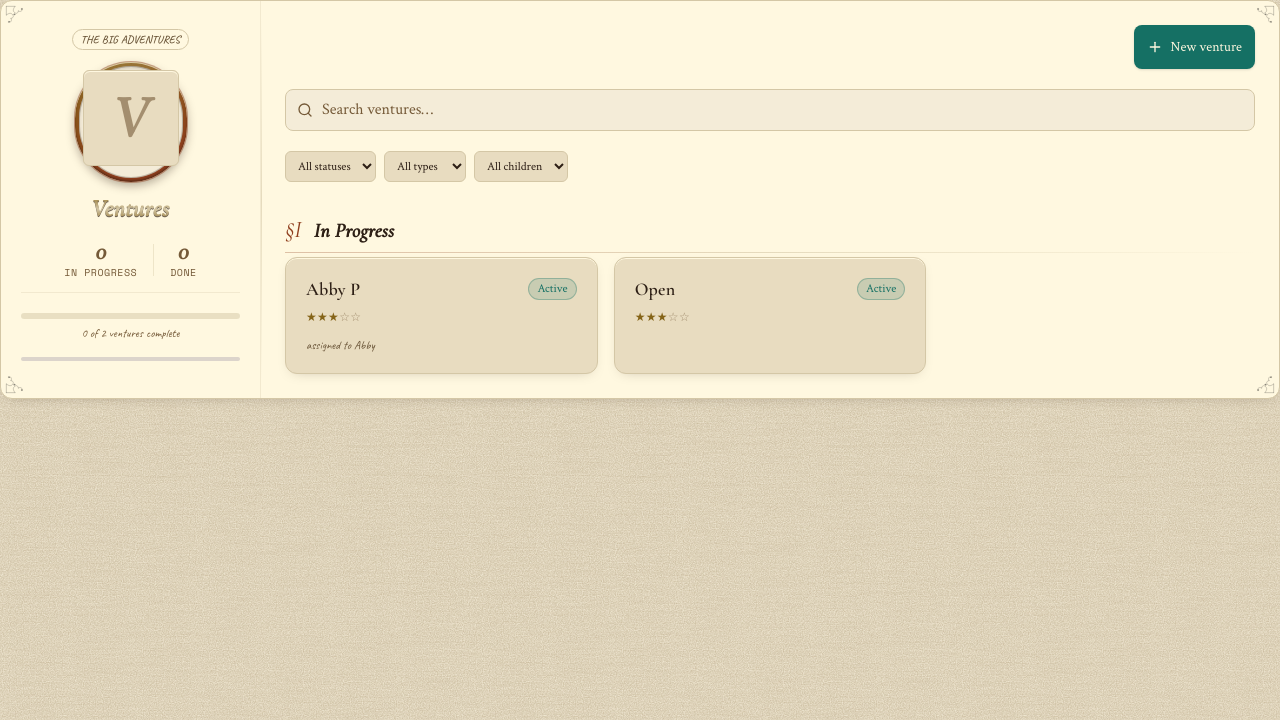
Projects › filters by child + unassigned (parent only)
Expected: the heading "Abby P" is shown, x1=306 y1=278 x2=360 y2=300
Step 1. Select "Unassigned" in the dropdown named "Filter by child" → point(521, 166), box x1=474 y1=151 x2=568 y2=182
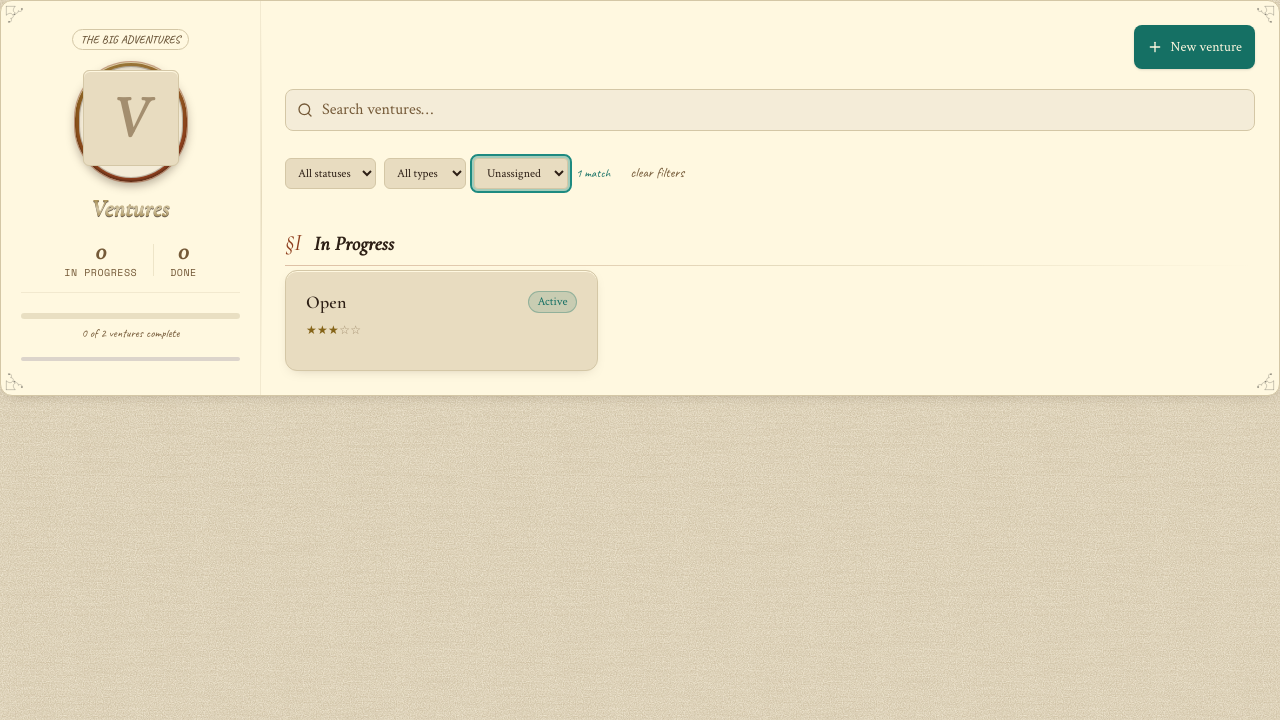
Expected: the heading "Open" is shown, x1=306 y1=291 x2=347 y2=314
Expected: the button "Abby P" is gone
Step 2. Select "Abby" in the dropdown named "Filter by child" → point(521, 173), box x1=474 y1=158 x2=568 y2=188
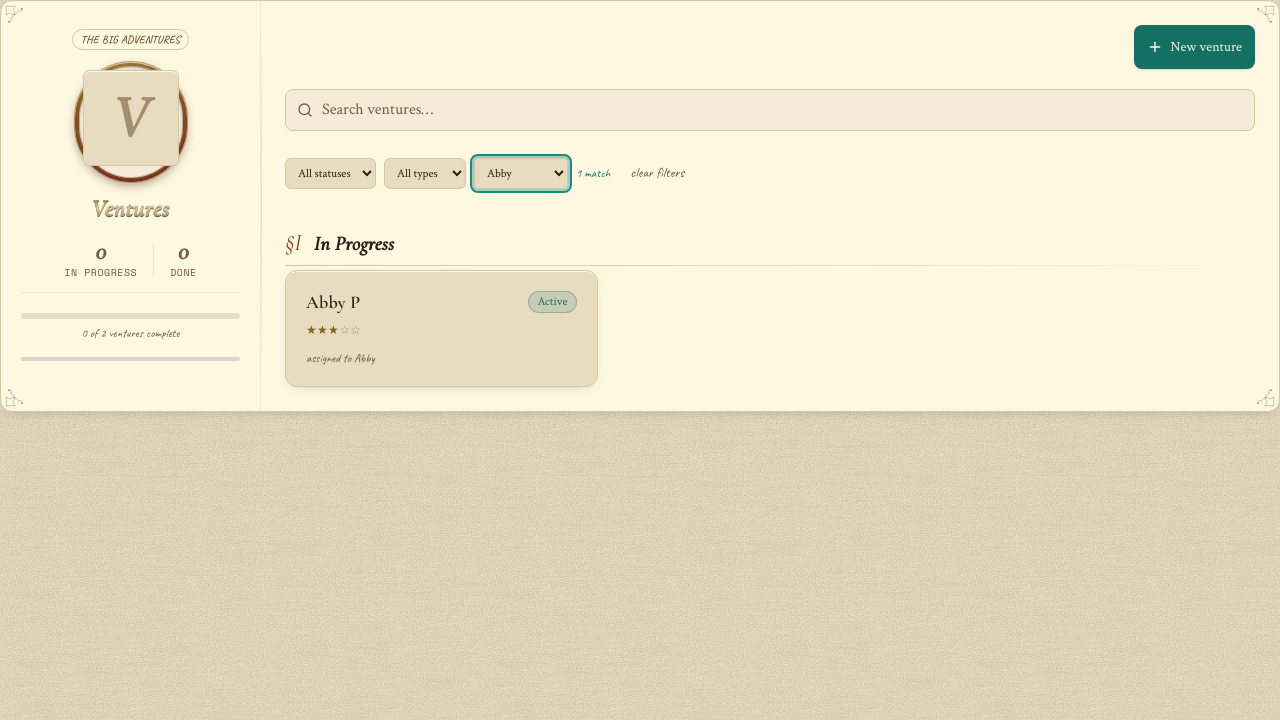
Expected: the heading "Abby P" is shown, x1=306 y1=291 x2=360 y2=314
